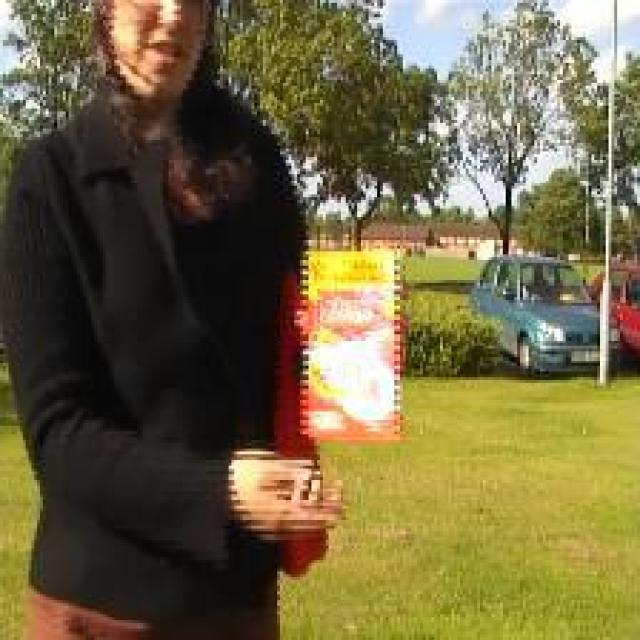other: (276, 245, 400, 558)
